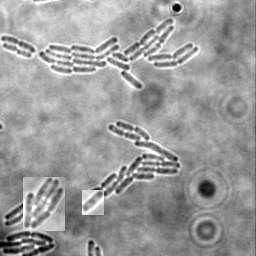Dividing: (1, 34, 37, 52), (3, 41, 33, 57)
Microcolony: (40, 18, 199, 89), (87, 120, 181, 197), (23, 177, 65, 231), (1, 230, 56, 255)
Rod: (82, 190, 104, 215)
